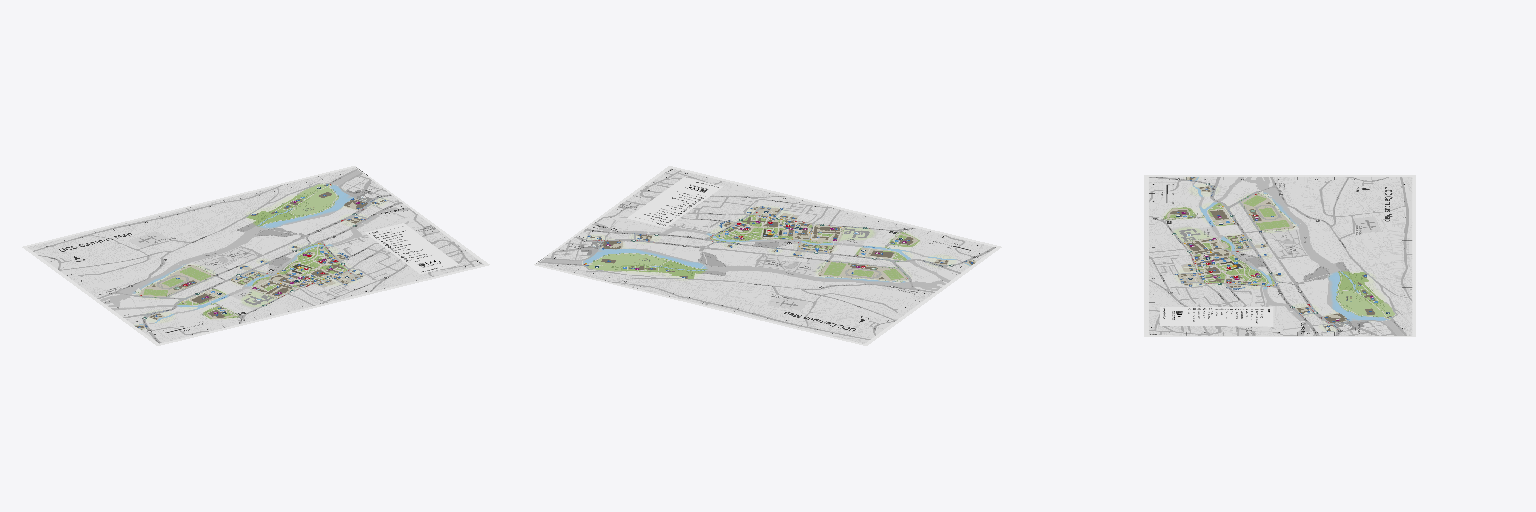
The picture shows the model from 3 angles: view 1: azimuth 30°, elevation 25°; view 2: azimuth 150°, elevation 25°; view 3: azimuth 270°, elevation 25°; orthographic projection.
Visible parts, largest first — view 1: bg_平面.023; view 2: bg_平面.023; view 3: bg_平面.023.
Boxes of the visible parts, <box> form: bg_平面.023: <box>22,166,489,345</box>; bg_平面.023: <box>534,166,1001,345</box>; bg_平面.023: <box>1144,175,1415,336</box>.
Bounding box in the file's own units: 33.24 × 0 × 23.5.
Materials: 1 (1 with a texture image).